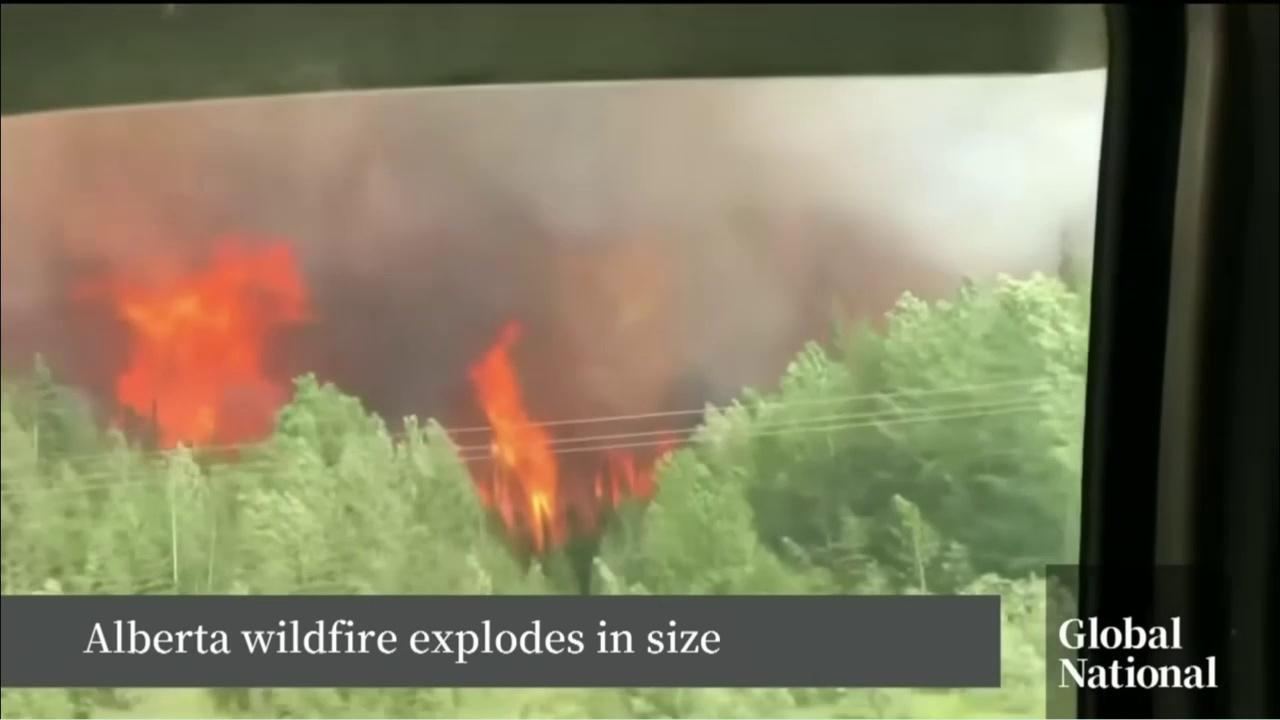fire: (55, 229, 319, 459), (444, 318, 566, 560), (592, 428, 688, 517)
smoke: (3, 64, 1111, 491)
